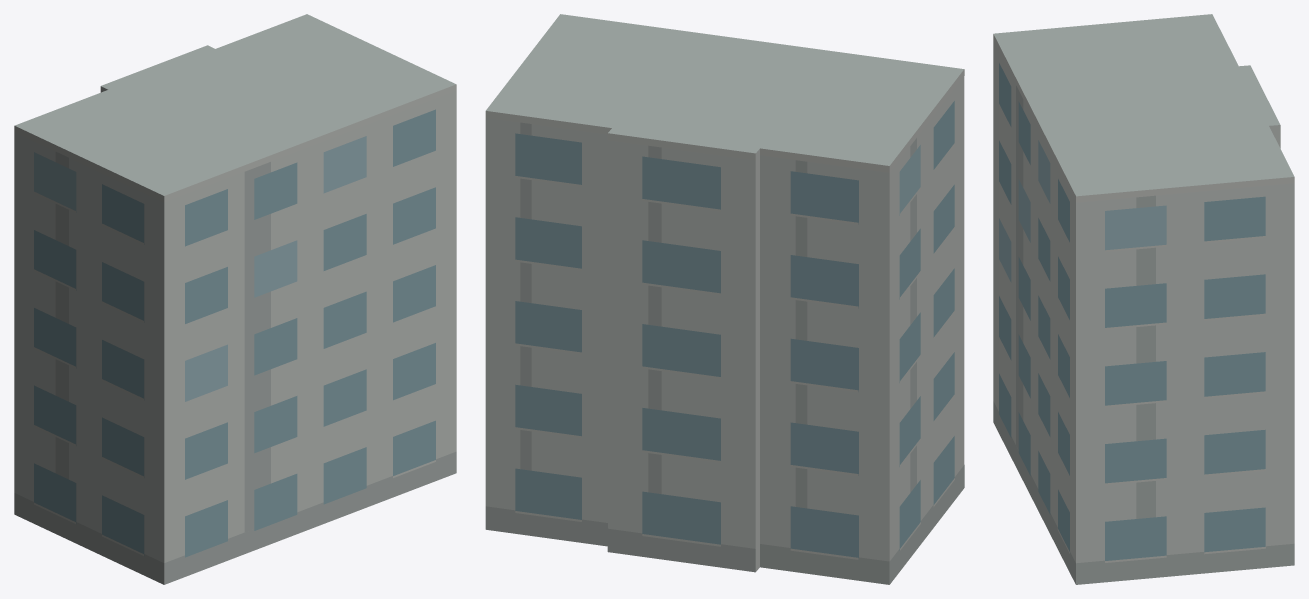
Rendered from survey-upis-32699313.glb.
The picture shows the model from 3 angles, left to right: view 1: azimuth 30°, elevation 25°; view 2: azimuth 150°, elevation 25°; view 3: azimuth 270°, elevation 25°; orthographic projection. The views are drawn at different scales.
Parts seen in each view (by area): view 1: survey-upis-32699313.tmp; view 2: survey-upis-32699313.tmp; view 3: survey-upis-32699313.tmp.
Part boxes in pixels (x1,y1,x2,y2): survey-upis-32699313.tmp: [14, 14, 456, 584]; survey-upis-32699313.tmp: [485, 14, 964, 584]; survey-upis-32699313.tmp: [993, 14, 1294, 584].
Size of the model in its own units: 14.75 by 14.65 by 10.31.
